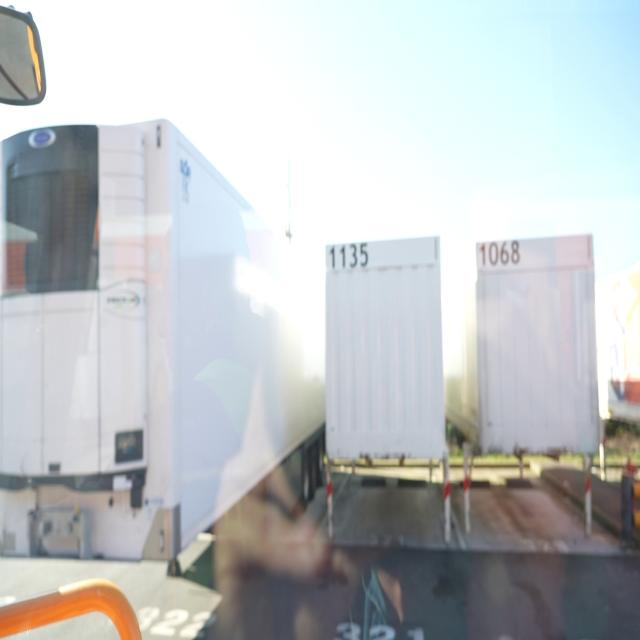Code: (475, 234, 520, 272), (328, 240, 370, 270)
